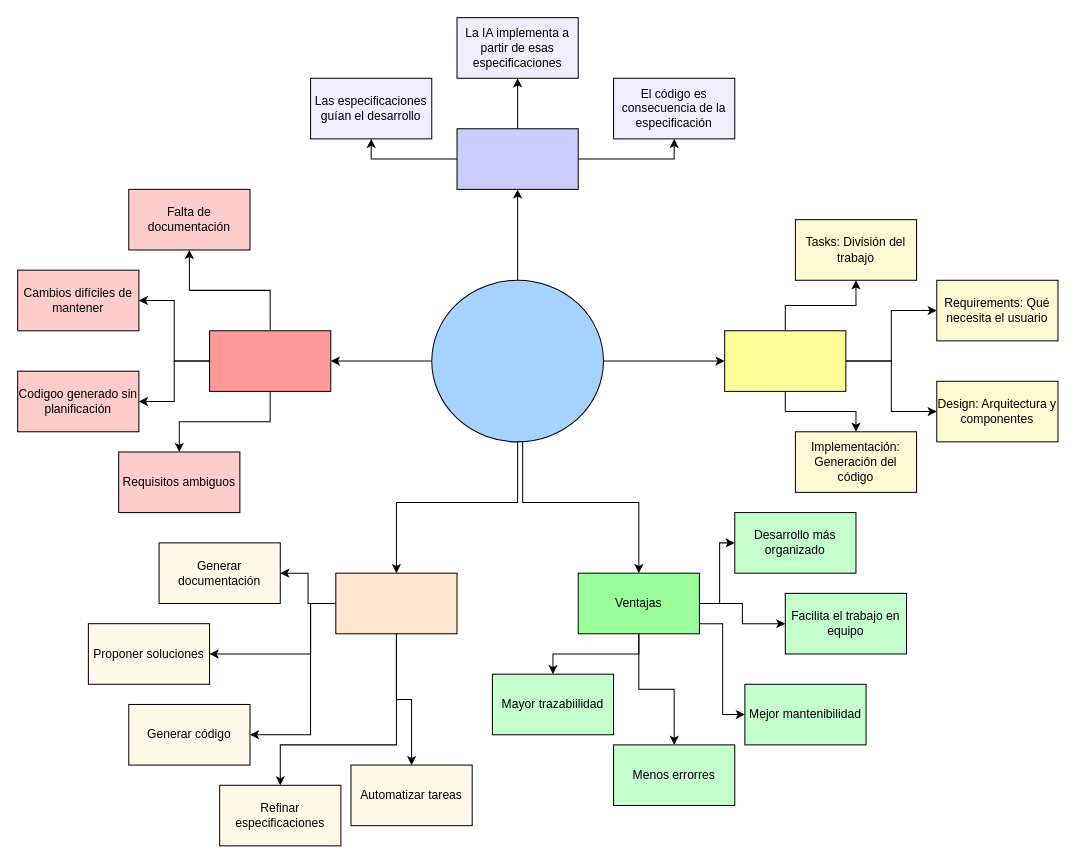
The diagram is 1076 pixels wide and 864 high, and some of its shapes have lost their labels. The shapes that lost their labels are listed below. From the top down, each one's box as (x1, y1, x2, y2) in pixels, then its label:
(456, 128, 578, 189): Idea principal
(209, 330, 331, 391): Problema actual
(431, 279, 603, 442): SPEC DRIVEN DEVELOPMENT
(724, 330, 846, 391): Proceso
(335, 572, 457, 634): Rol de la IA
